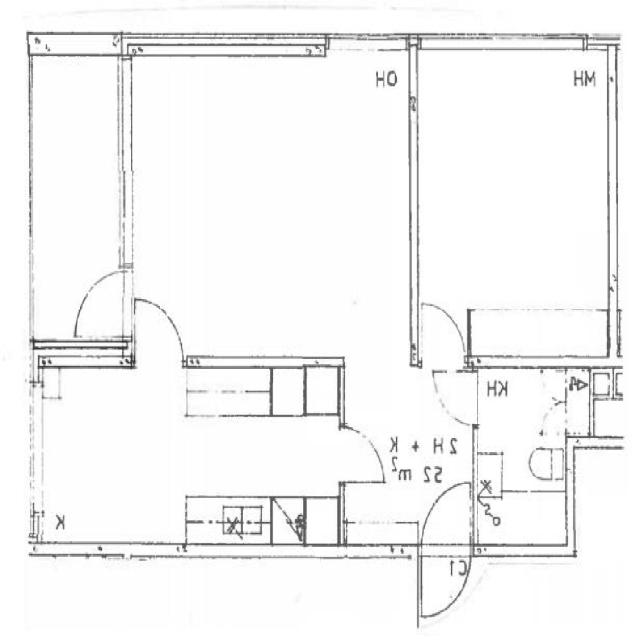door: (74, 265, 126, 342), (419, 549, 471, 623), (132, 294, 185, 366), (417, 298, 466, 375), (420, 477, 473, 545), (339, 424, 384, 487), (540, 399, 568, 437)
zone: (124, 48, 411, 346), (29, 345, 342, 554), (414, 48, 616, 342), (27, 54, 126, 350), (474, 367, 572, 550)
